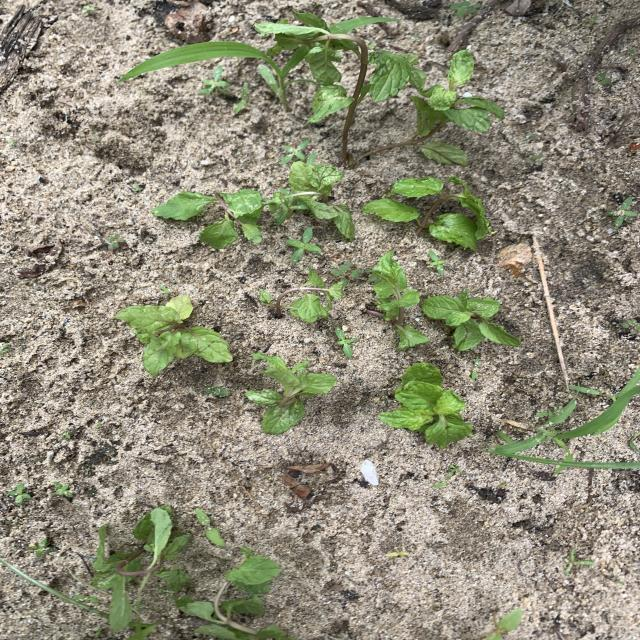crop: (256, 19, 423, 122), (372, 51, 503, 163), (92, 506, 190, 631), (178, 548, 295, 639), (365, 177, 494, 249), (116, 295, 231, 375), (379, 363, 471, 447), (247, 354, 335, 433), (154, 190, 263, 247), (423, 290, 519, 350), (369, 251, 427, 348), (291, 161, 352, 239), (260, 268, 345, 322)
weed: (491, 368, 639, 455), (120, 44, 307, 105), (2, 561, 111, 619), (266, 191, 305, 224), (484, 609, 522, 639), (287, 227, 320, 260), (196, 509, 224, 545), (608, 197, 636, 226), (564, 548, 594, 573), (202, 66, 228, 94), (335, 328, 358, 357), (283, 142, 308, 163), (331, 263, 363, 278), (29, 538, 55, 556), (9, 483, 31, 504), (451, 1, 483, 15), (569, 386, 610, 396), (429, 251, 446, 273), (235, 82, 247, 112), (54, 482, 72, 497), (108, 234, 124, 248), (623, 319, 639, 332), (205, 386, 228, 395), (526, 154, 542, 163), (385, 551, 409, 557), (472, 358, 479, 377), (447, 464, 459, 475), (598, 73, 611, 83), (431, 480, 447, 487), (61, 431, 71, 438), (134, 185, 141, 191)
